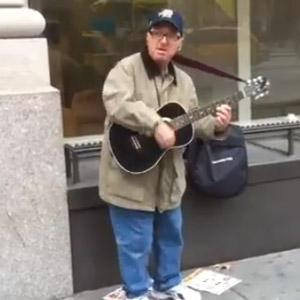person: (98, 10, 232, 299)
